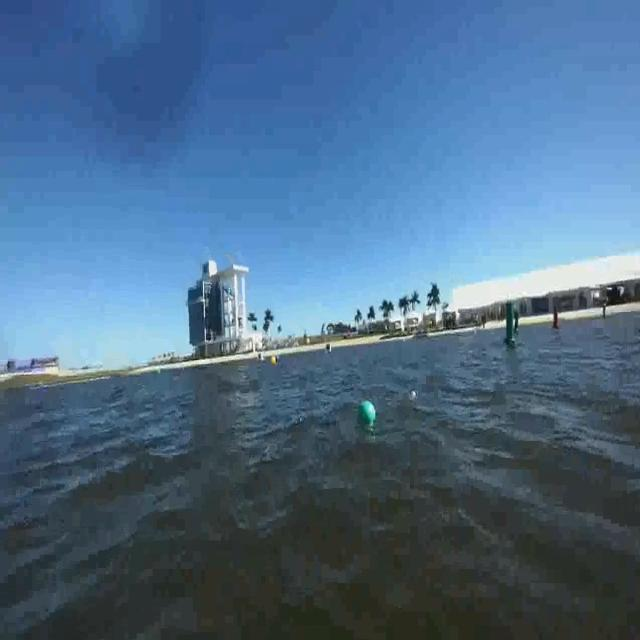green-buoy: (358, 404, 375, 427)
green-column-buoy: (505, 300, 521, 346)
red-column-buoy: (553, 308, 561, 329)
yellow-buoy: (272, 354, 278, 366)
